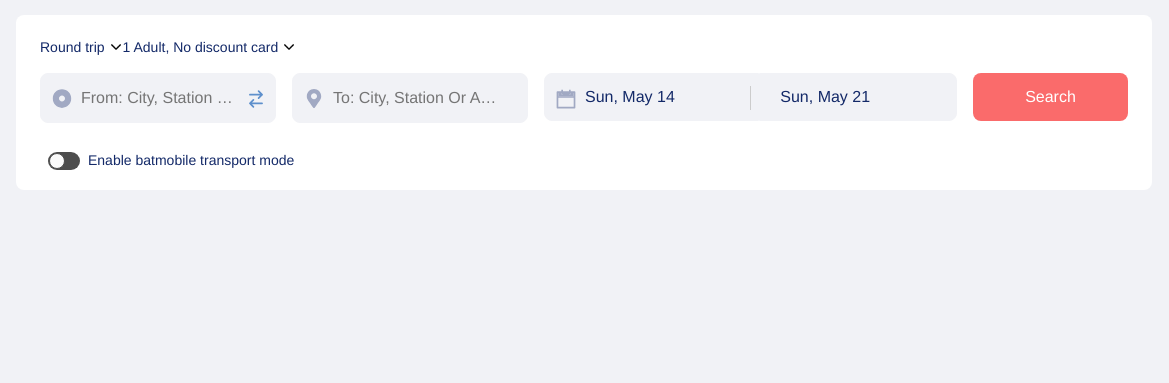
Test: Searchbar Params › should change number of senior when clicked
This screenshot has width=1169, height=383.
Click the button "1 Adult, No discount card". click: (208, 47)
box: [123,39,294,55]
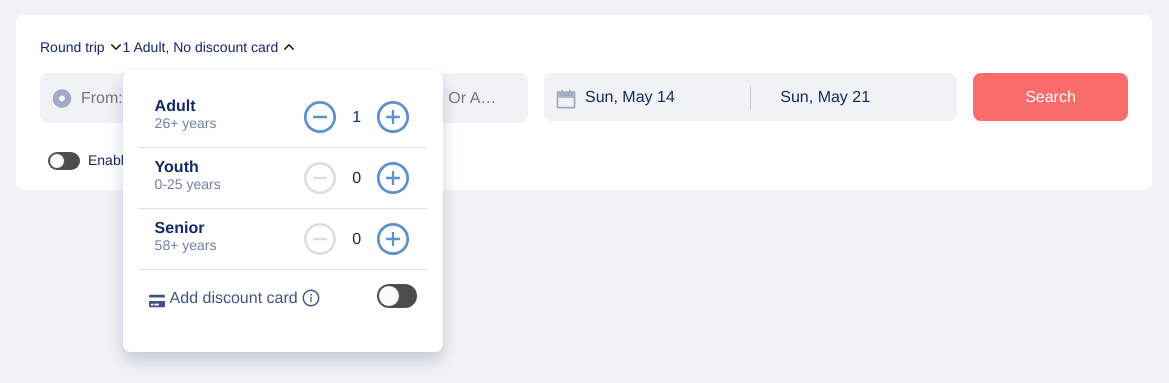
Click the 3rd icon with test id "icon--plus". click: (393, 239)
box: [375,221,412,257]
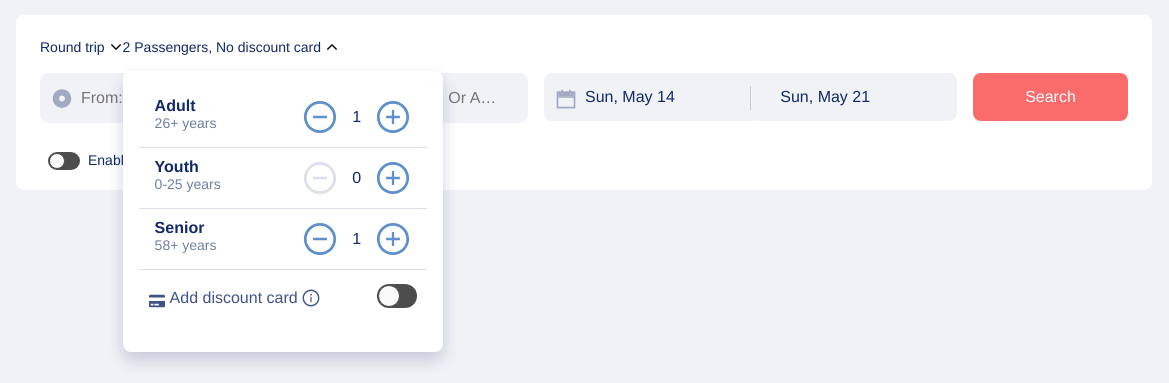
Click the 3rd icon with test id "icon--plus". click: (393, 239)
box: [375,221,412,257]
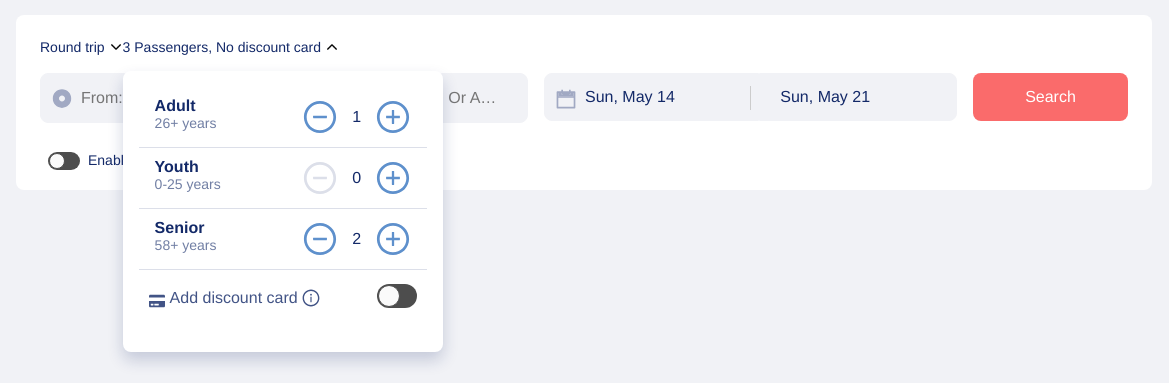
Check: the text "2" is shown, box [352,230,361,248]
